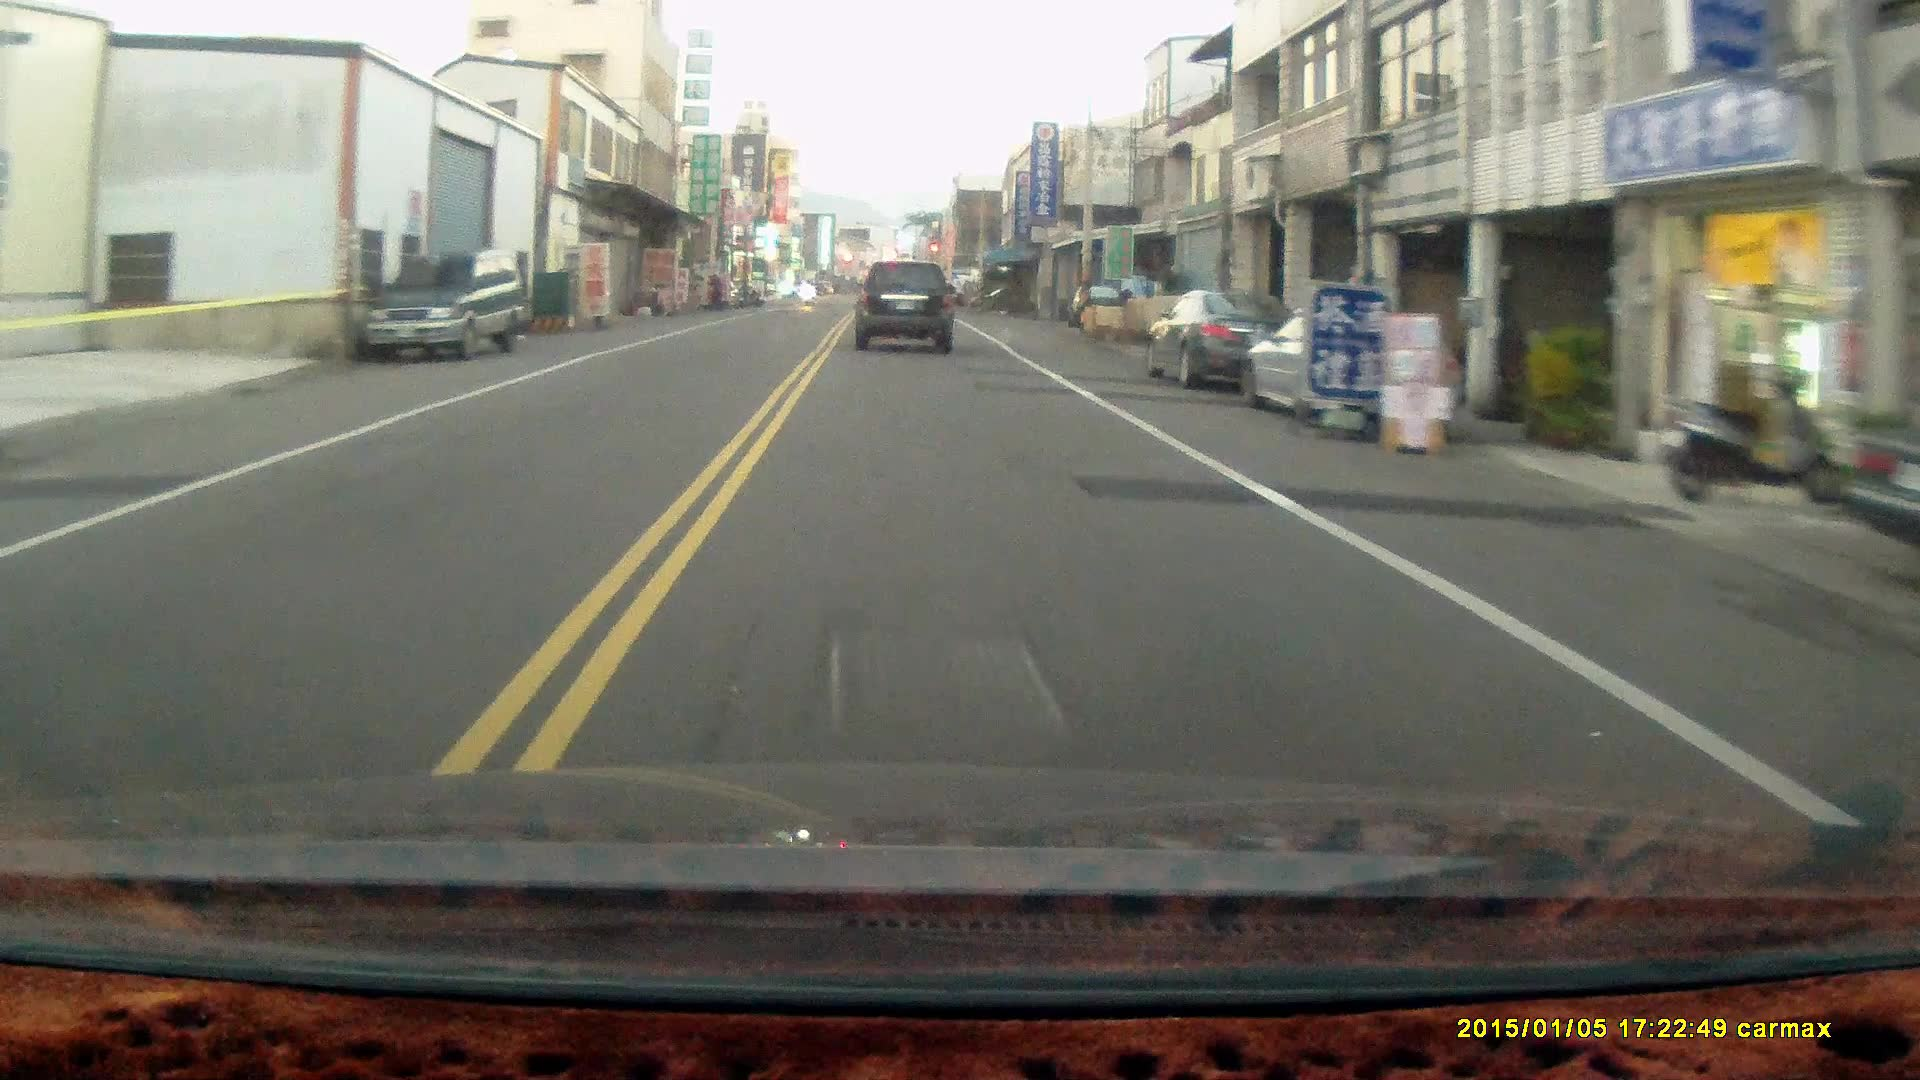vehicle: (1240, 314, 1466, 439), (361, 249, 527, 367), (1142, 290, 1305, 390), (853, 262, 956, 353)
